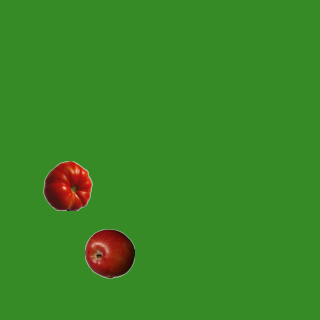Apple Braeburn: (84, 228, 134, 278)
Tomato 3: (42, 160, 92, 210)
